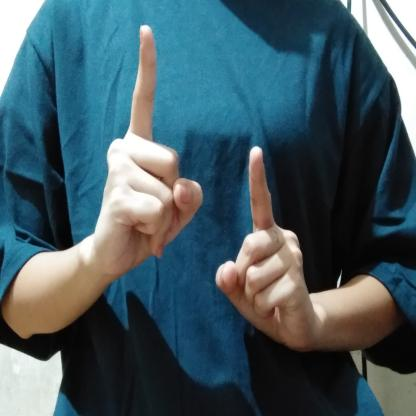morning: (89, 22, 322, 363)
